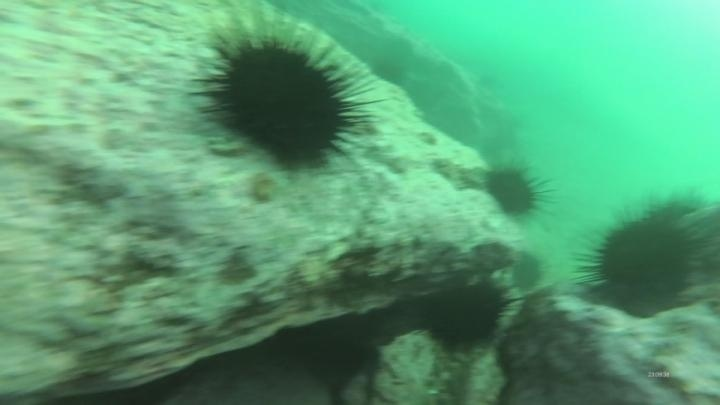echinus: (195, 28, 367, 173), (578, 205, 705, 318), (417, 276, 513, 355), (480, 159, 553, 223), (507, 249, 546, 295)
